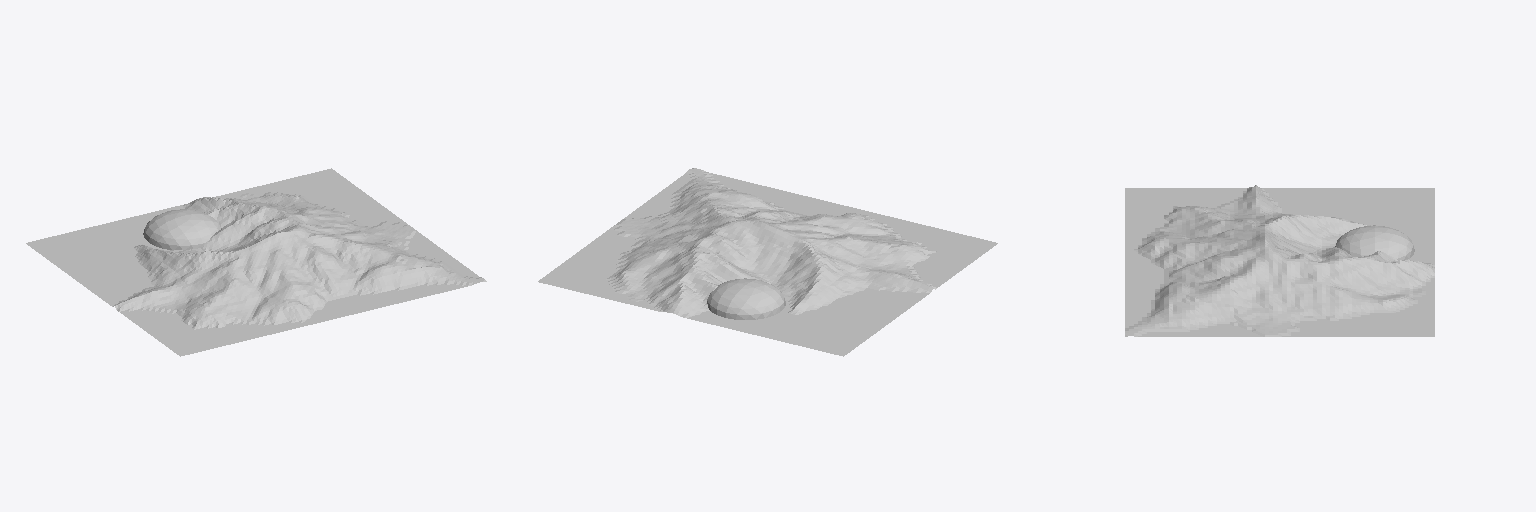
File: gis.obj
The picture shows the model from 3 angles: view 1: azimuth 30°, elevation 25°; view 2: azimuth 150°, elevation 25°; view 3: azimuth 270°, elevation 25°; orthographic projection.
Size of the model in its own units: 2430 by 376 by 2130.